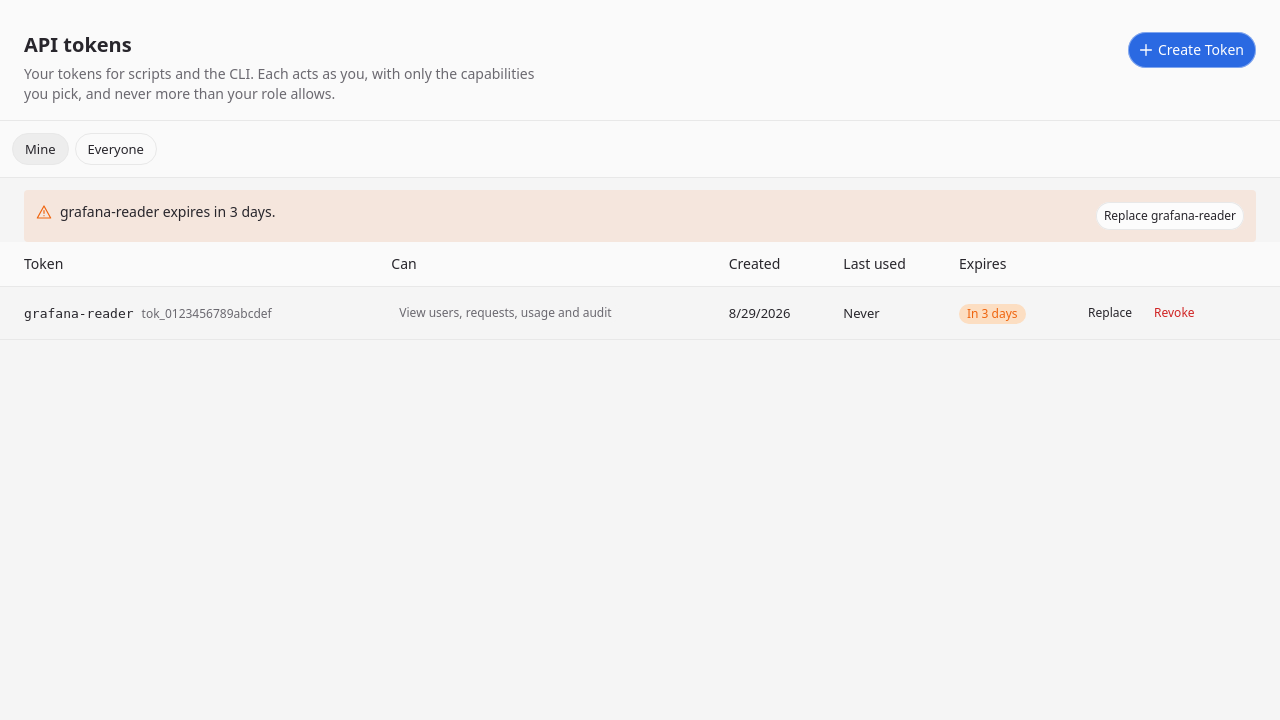
Test: API tokens › reveals a new token once, unlocks Done only after it's saved, and never re-shows it after a read-only spell
The width and height of the screenshot is (1280, 720).
Expected: the text "grafana-reader expires in 3 days." is shown, [60,202,276,221]
Click the button "Create Token" at (1192, 50), box [1128,32,1256,68]
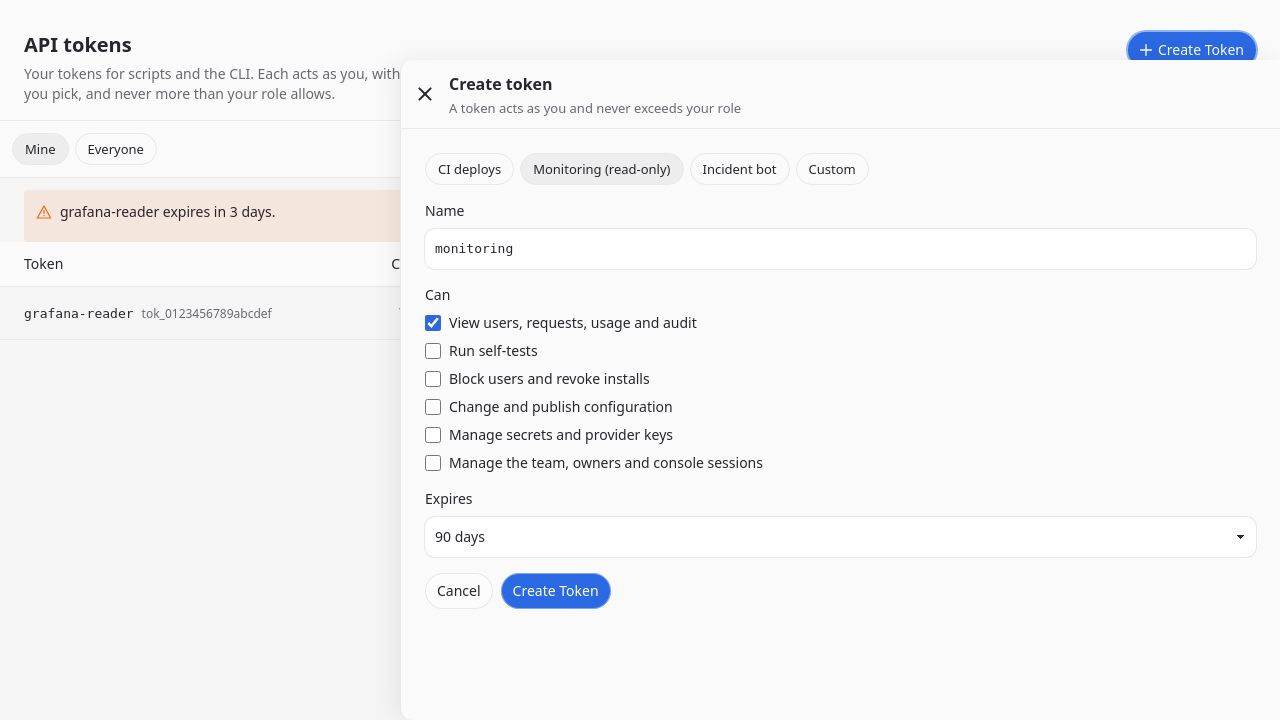
Click the button "CI deploys" at (470, 169), box [425,153,514,185]
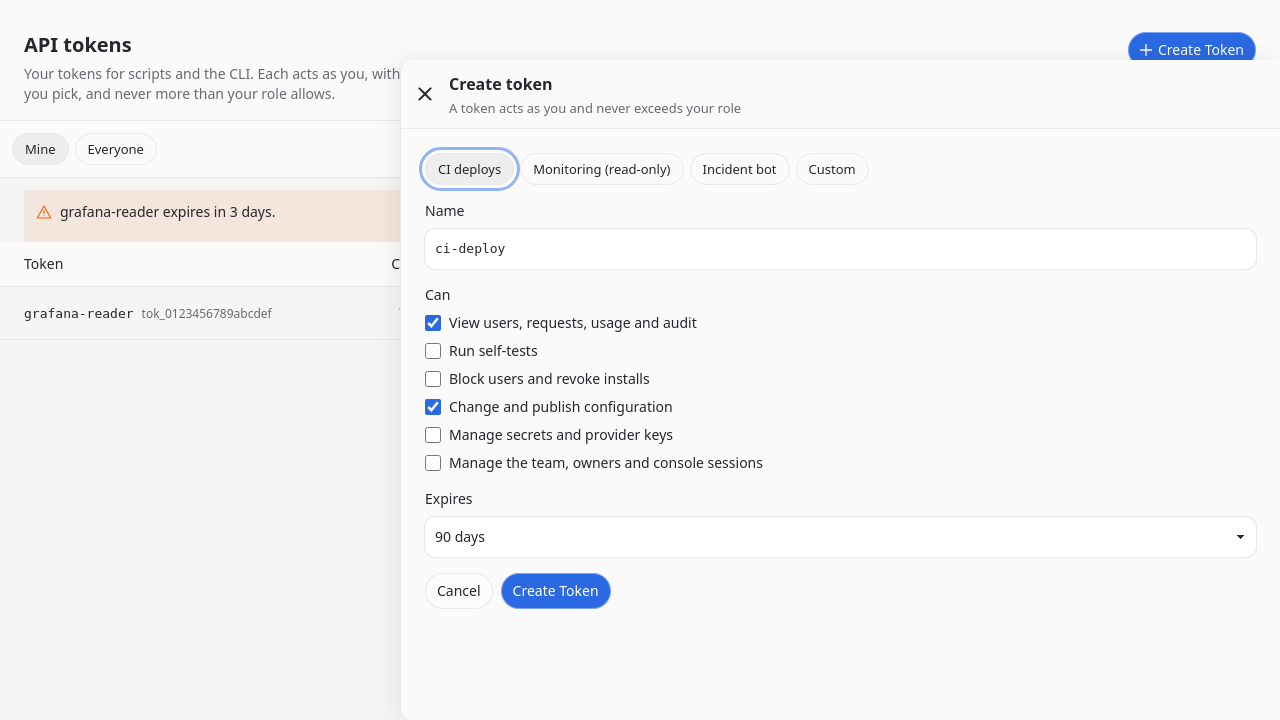
Result: the field labelled "Name" holds "ci-deploy" at [435,239,1246,259]
Click the button "Create Token" below "Manage secrets and provider keys" at (556, 591), box [501,573,611,609]
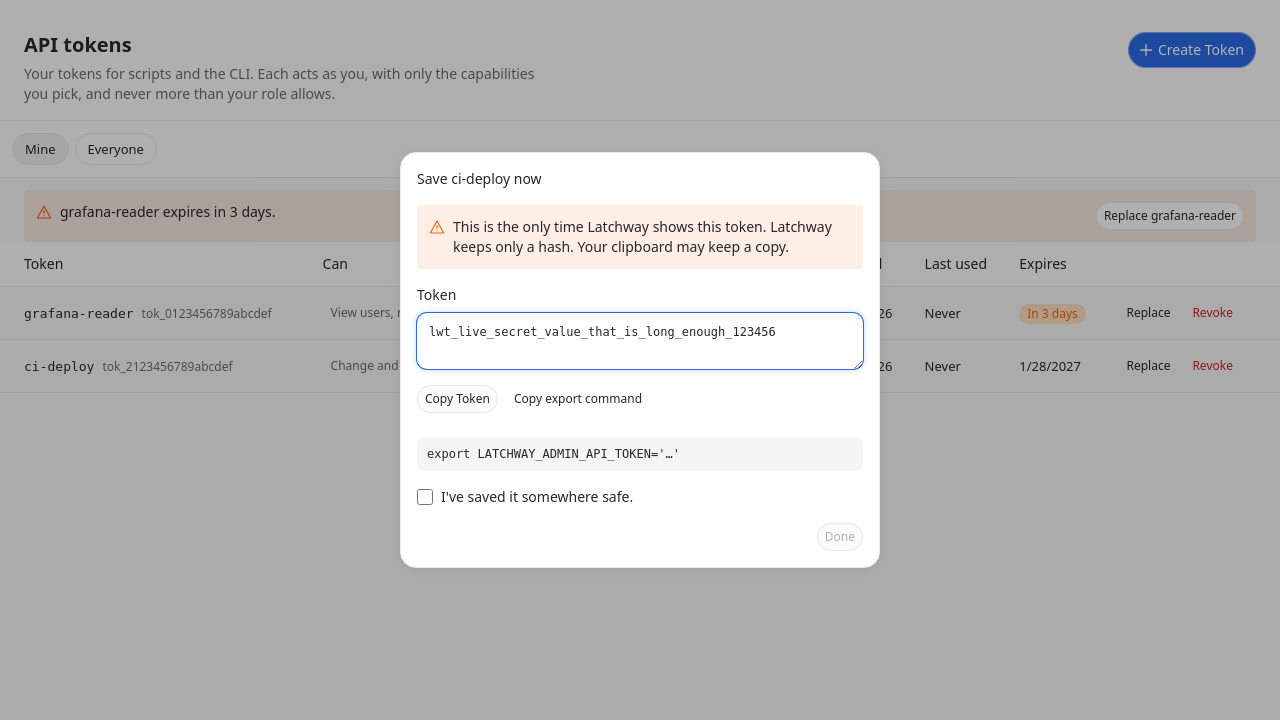
Result: the text box labelled "Token" holds "lwt_live_secret_value_that_is_long_enough_123456" at [417,313,863,369]
Result: the button "Cancel" is gone
Result: the button "Done" is disabled at [817,523,863,551]
